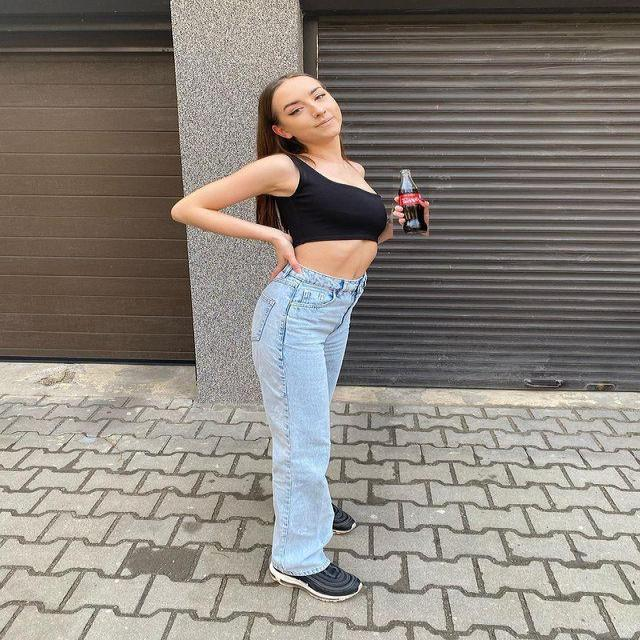coca-cola: (393, 166, 429, 236)
